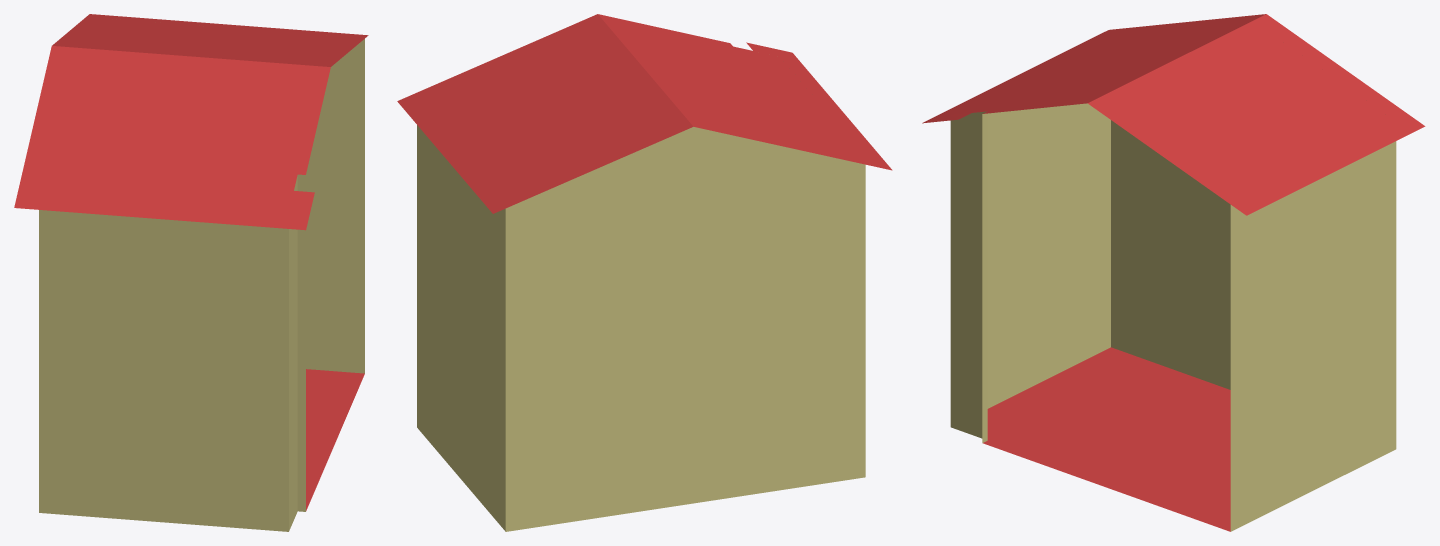
3 views of the same model, side by side, from view 1: azimuth 30°, elevation 25°; view 2: azimuth 150°, elevation 25°; view 3: azimuth 270°, elevation 25° (orthographic). The views are drawn at different scales.
Size of the model in its own units: 11.54 by 12.12 by 10.01.
